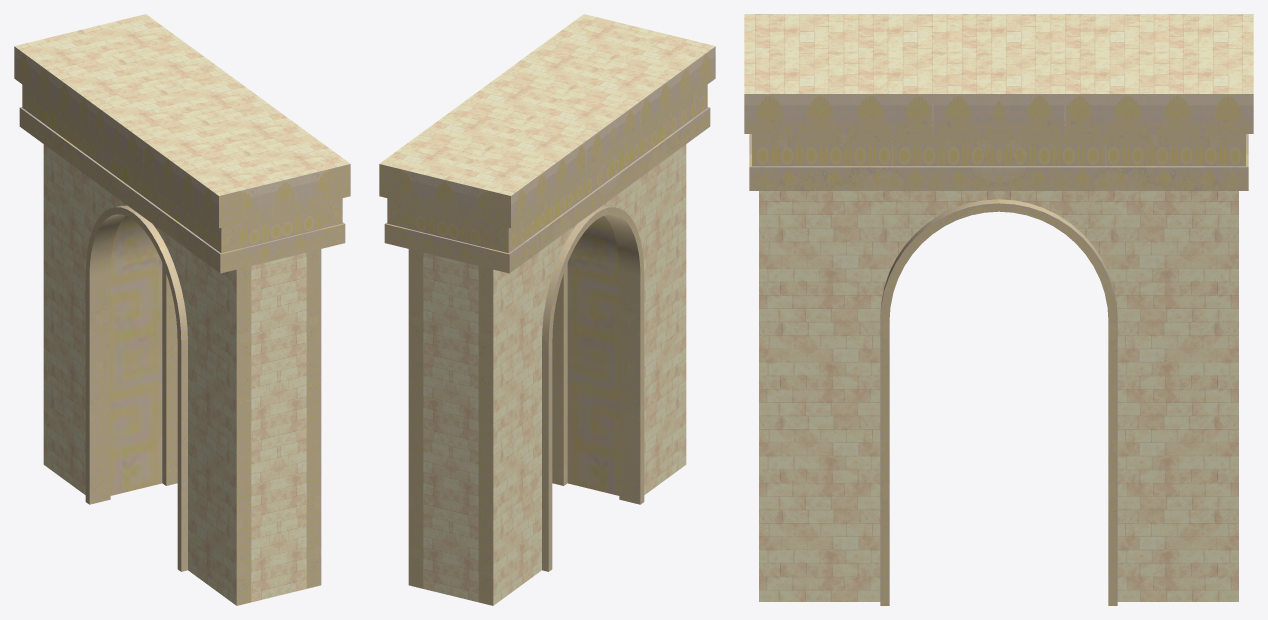
Rendered from SM_arc_entrance.glb.
3 renders of one model, left to right at view 1: azimuth 30°, elevation 25°; view 2: azimuth 150°, elevation 25°; view 3: azimuth 270°, elevation 25°, orthographic. The views are drawn at different scales.
Parts seen in each view (by area): view 1: SM_arc_entrance; view 2: SM_arc_entrance; view 3: SM_arc_entrance.
Boxes of the visible parts, left/top/right/bottom form: SM_arc_entrance: left=14, top=14, right=350, bottom=605; SM_arc_entrance: left=379, top=14, right=715, bottom=605; SM_arc_entrance: left=744, top=14, right=1253, bottom=605.
Bounding box in the file's own units: 7.32 × 22.28 × 19.69.
2 materials, 2 textured.
